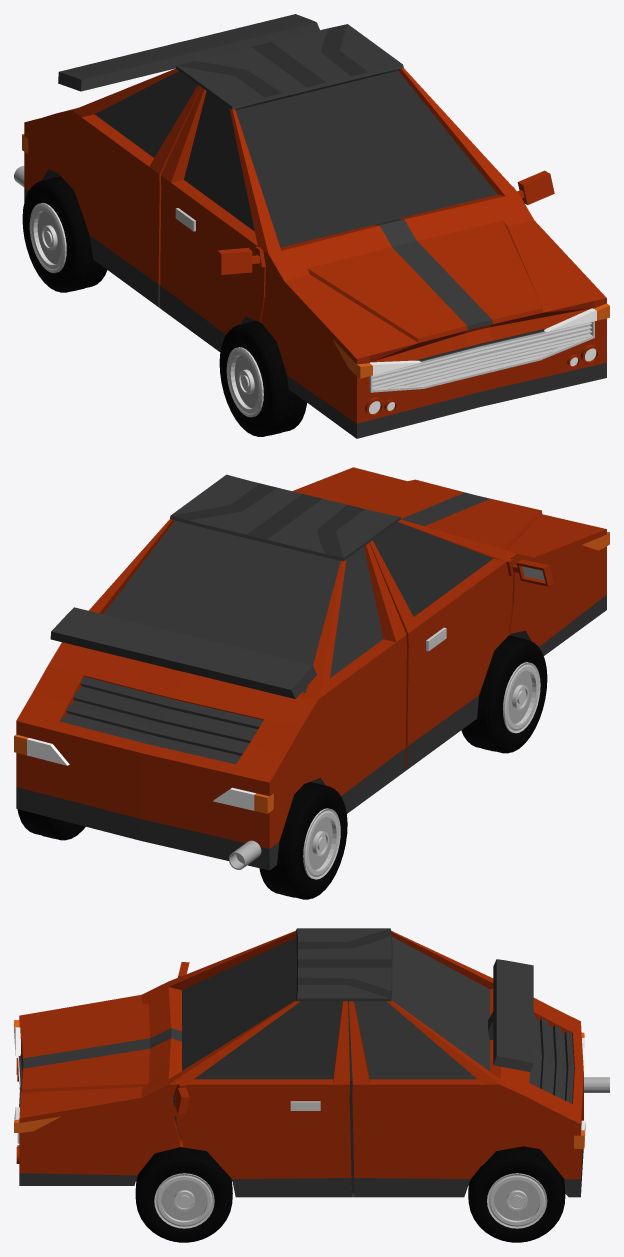
Rendered from CR-CAR-14B.fbx.
3 renders of one model, top to bottom at view 1: azimuth 30°, elevation 25°; view 2: azimuth 150°, elevation 25°; view 3: azimuth 270°, elevation 25°, orthographic. The views are drawn at different scales.
Visible parts, largest first — view 1: BODY, WHEEL.001, WHEEL.004; view 2: BODY, WHEEL.004, WHEEL.001, WHEEL.002, SHACMAN; view 3: BODY, WHEEL.003, WHEEL.002.
Boxes of the visible parts, left/top/right/bottom form: BODY: left=22, top=14, right=609, bottom=438; WHEEL.001: left=219, top=321, right=306, bottom=436; WHEEL.004: left=22, top=176, right=107, bottom=292; BODY: left=14, top=467, right=609, bottom=870; WHEEL.004: left=259, top=782, right=347, bottom=899; WHEEL.001: left=461, top=635, right=547, bottom=753; WHEEL.002: left=17, top=809, right=85, bottom=840; SHACMAN: left=229, top=840, right=261, bottom=869; BODY: left=14, top=928, right=585, bottom=1197; WHEEL.003: left=135, top=1147, right=232, bottom=1242; WHEEL.002: left=468, top=1146, right=565, bottom=1242.
Size of the model in its own units: 131 by 99.86 by 240.
